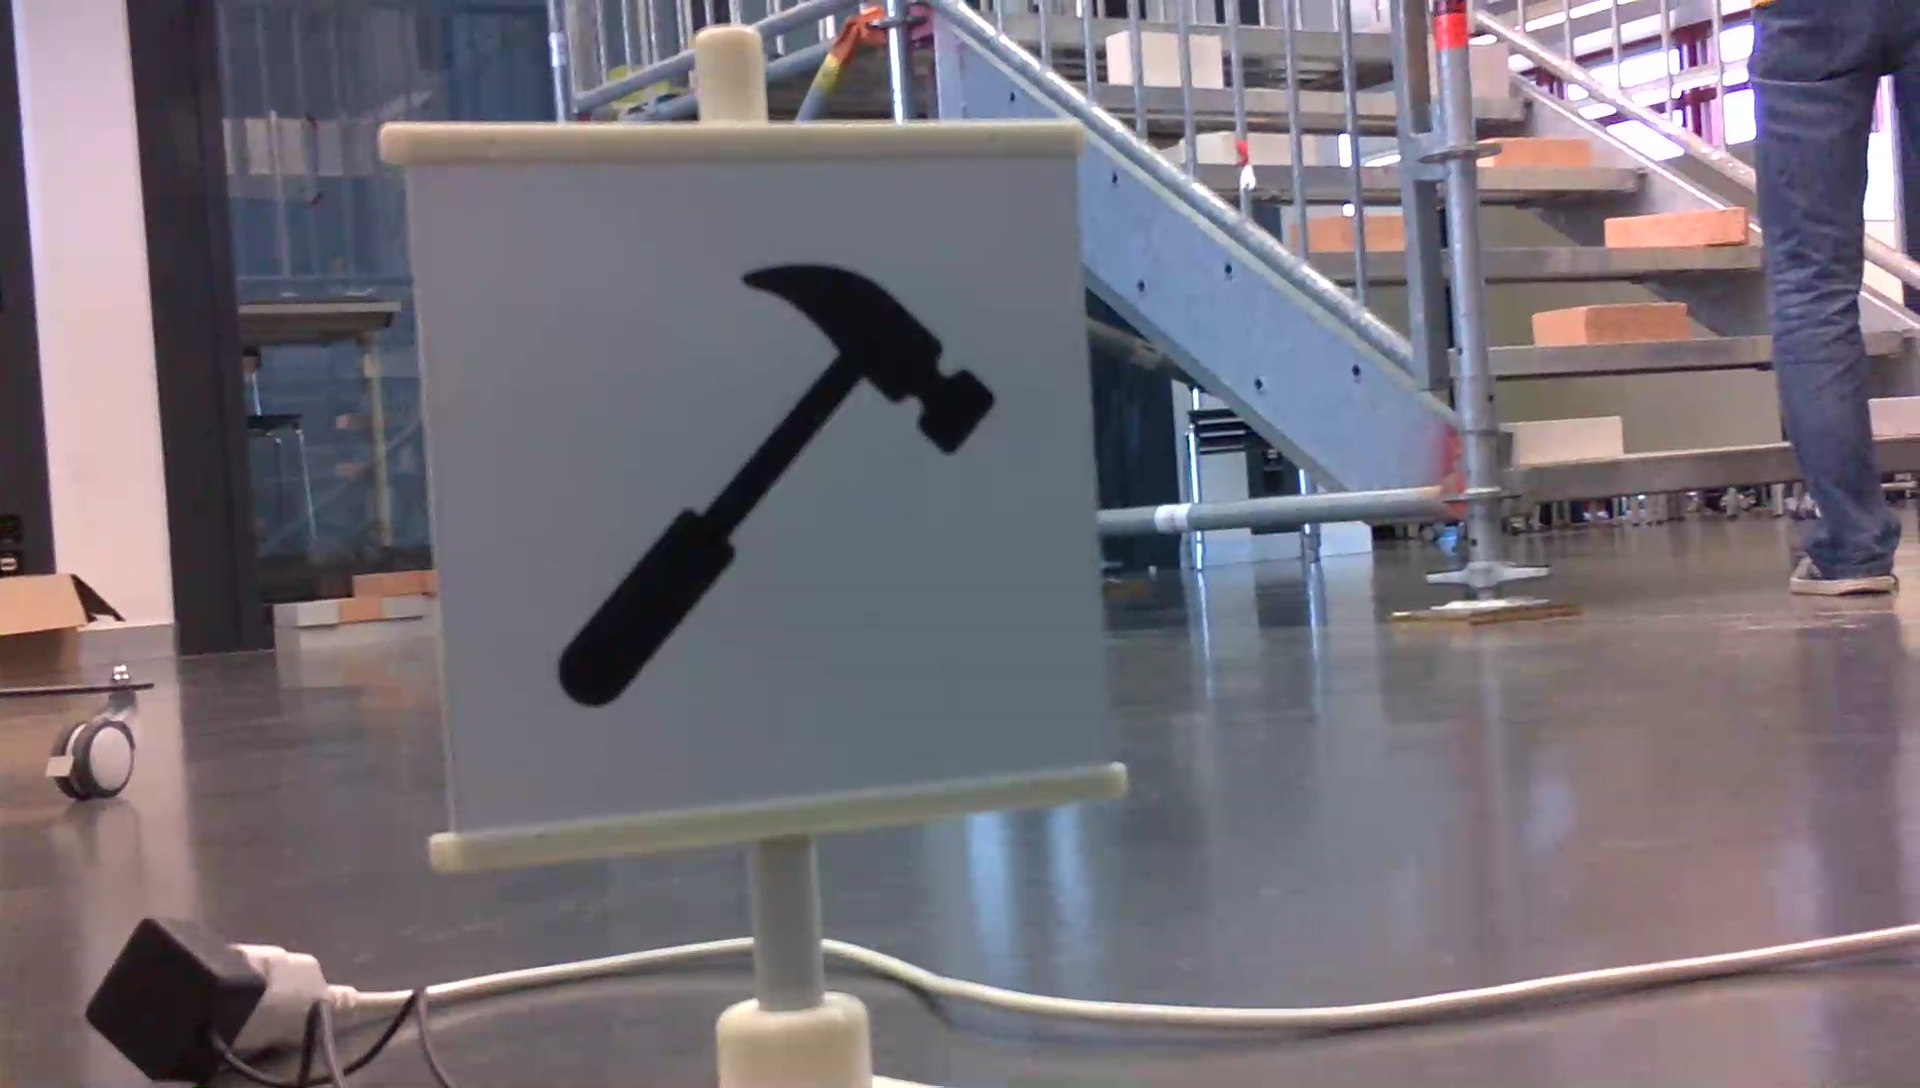brick: (1534, 305, 1683, 342), (1605, 208, 1747, 245), (1518, 419, 1621, 462), (1484, 138, 1588, 171), (1867, 396, 1917, 435), (1468, 47, 1507, 95)
hammer: (545, 257, 1004, 712)
